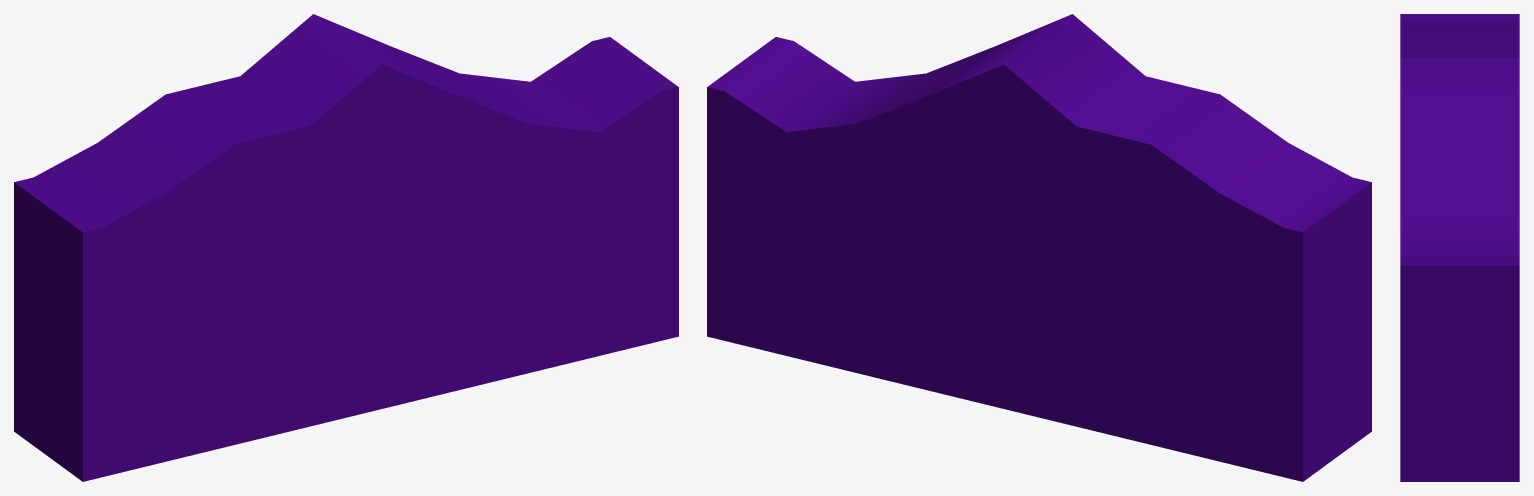
3 renders of one model, left to right at view 1: azimuth 30°, elevation 25°; view 2: azimuth 150°, elevation 25°; view 3: azimuth 270°, elevation 25°, orthographic. The views are drawn at different scales.
Visible parts, largest first — view 1: pCube13; view 2: pCube13; view 3: pCube13.
Boxes of the visible parts, box(x1,y1,x2,y2) form: pCube13: box(14, 14, 678, 481); pCube13: box(707, 14, 1371, 481); pCube13: box(1400, 14, 1519, 481).
Size of the model in its own units: 25 by 13.82 by 5.
